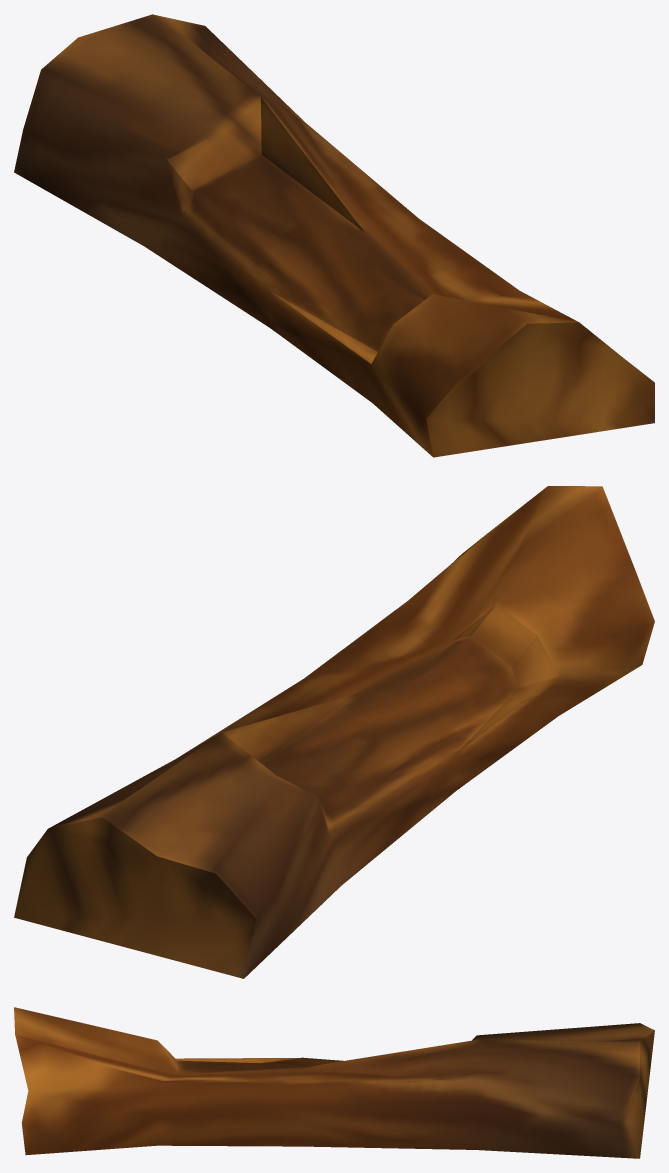
File: wood_4.fbx
3 renders of one model, top to bottom at view 1: azimuth 30°, elevation 25°; view 2: azimuth 150°, elevation 25°; view 3: azimuth 270°, elevation 25°, orthographic. The views are drawn at different scales.
Visible parts, largest first — view 1: wood_4; view 2: wood_4; view 3: wood_4.
Part boxes in pixels (left/top/right/bottom): wood_4: left=14, top=14, right=654, bottom=457; wood_4: left=14, top=486, right=654, bottom=978; wood_4: left=14, top=1007, right=654, bottom=1158.
Bounding box in the file's own units: 0.7668 × 0.4696 × 2.6.
